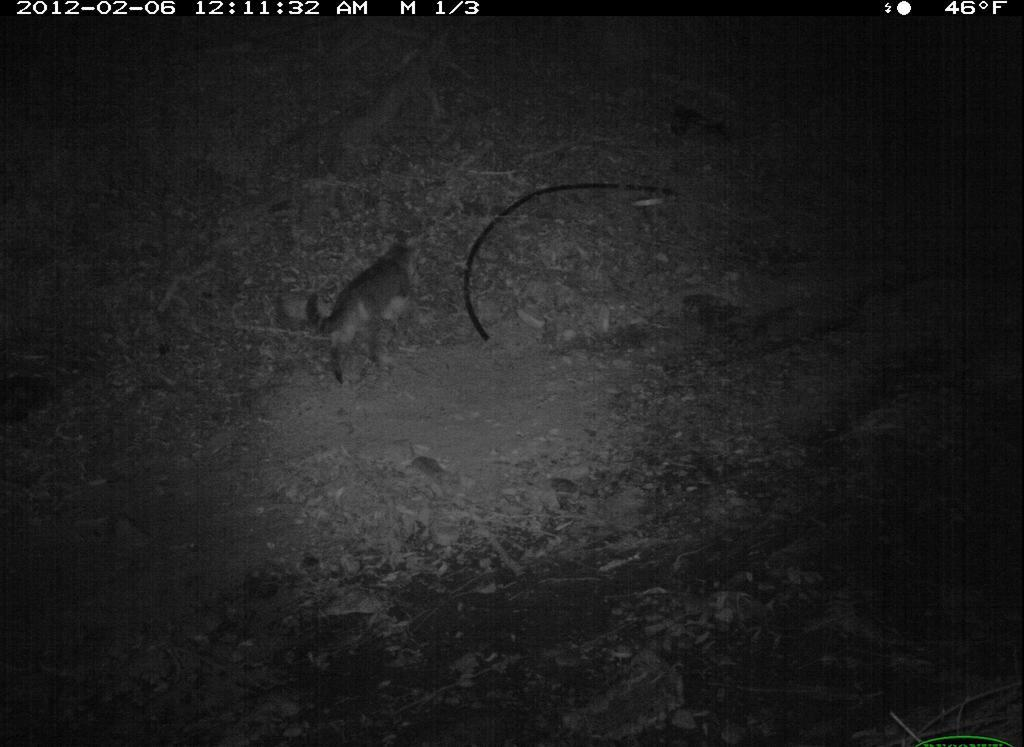cat: (304, 228, 432, 396)
